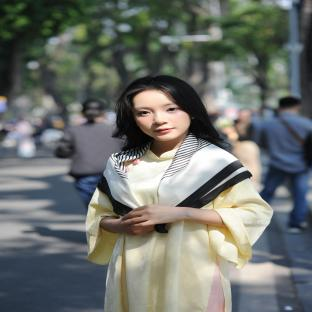Human: (86, 76, 272, 312)
